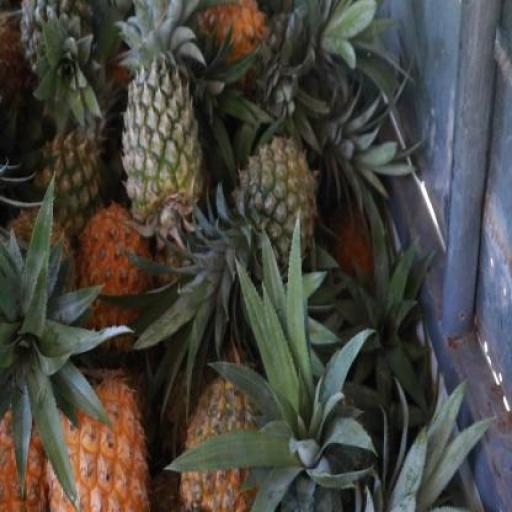Pineapple - v8 v1: (42, 362, 146, 511), (70, 204, 144, 354)
